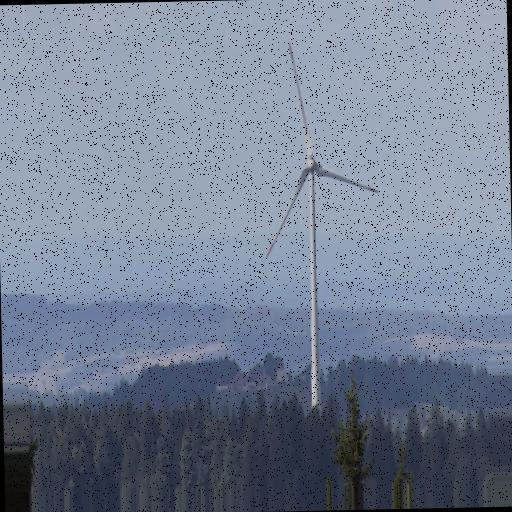wind turbine: (262, 44, 378, 417)
